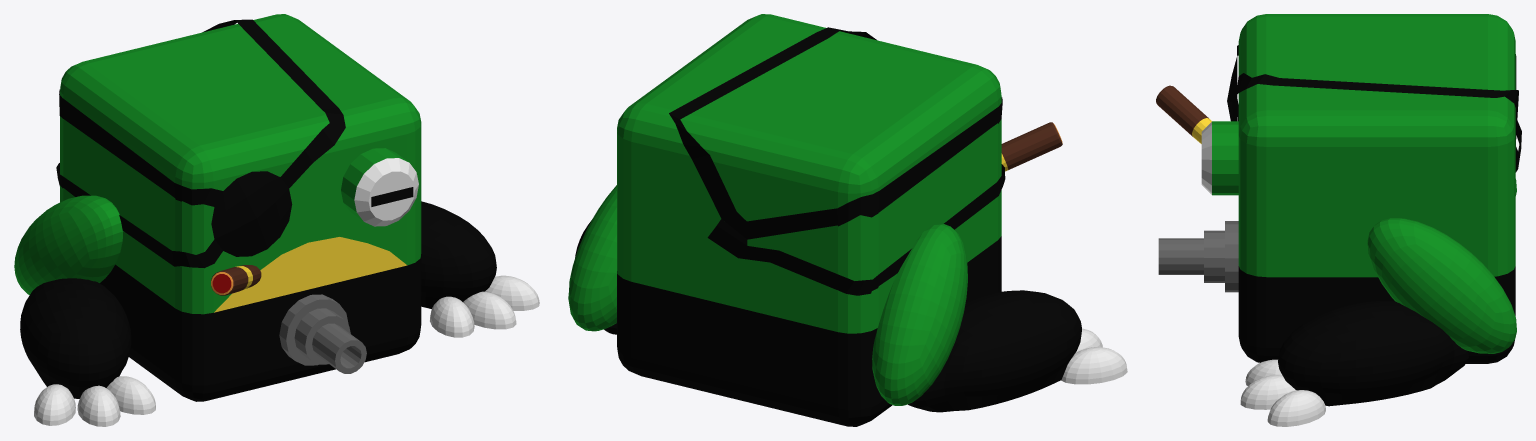
File: Boss_Mecha_Green.fbx
The picture shows the model from 3 angles, left to right: view 1: azimuth 30°, elevation 25°; view 2: azimuth 150°, elevation 25°; view 3: azimuth 270°, elevation 25°; orthographic projection. The views are drawn at different scales.
Visible parts, largest first — view 1: Boss_Green; view 2: Boss_Green; view 3: Boss_Green.
Boxes of the visible parts, x1=… form: Boss_Green: x1=14, y1=14, x2=539, y2=426; Boss_Green: x1=568, y1=14, x2=1127, y2=426; Boss_Green: x1=1156, y1=14, x2=1521, y2=426.
Size of the model in its own units: 617 by 303 by 396.
